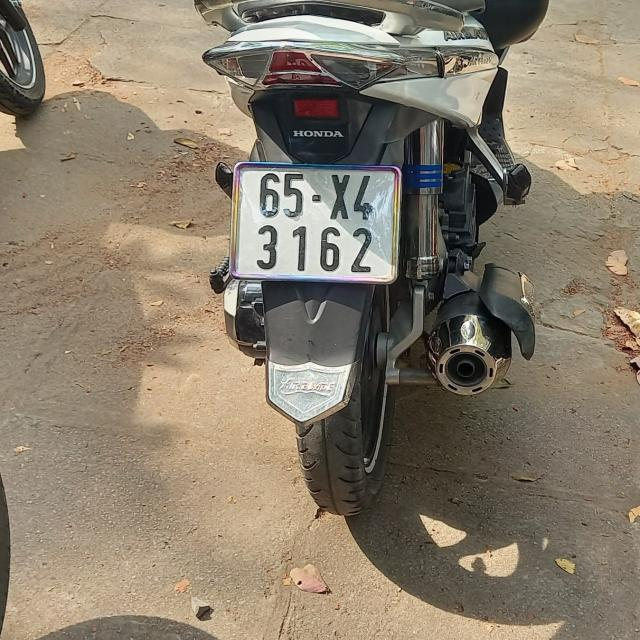1: (292, 226, 307, 270)
2: (351, 226, 371, 272)
3: (254, 225, 279, 270)
4: (356, 174, 372, 220)
5: (283, 172, 304, 218)
6: (259, 172, 279, 219), (321, 227, 340, 271)
X: (329, 175, 350, 222)
